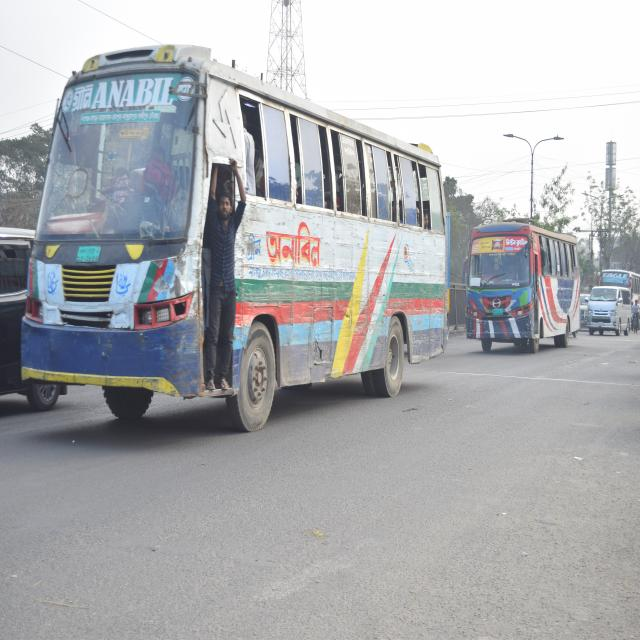bus: (35, 41, 446, 428), (464, 215, 579, 354)
microbus: (586, 282, 632, 339)
